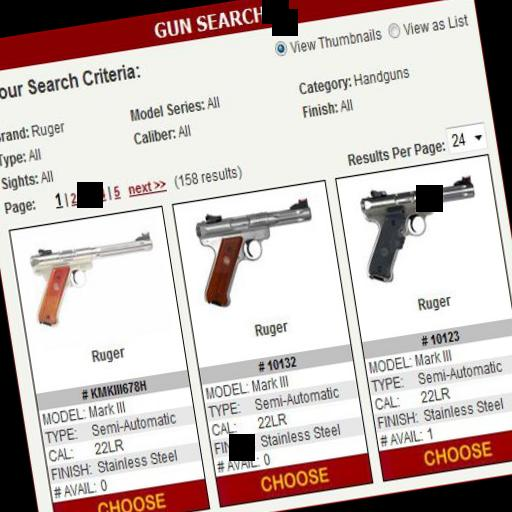Handgun: (188, 197, 322, 308), (352, 173, 486, 282), (23, 228, 163, 326)
